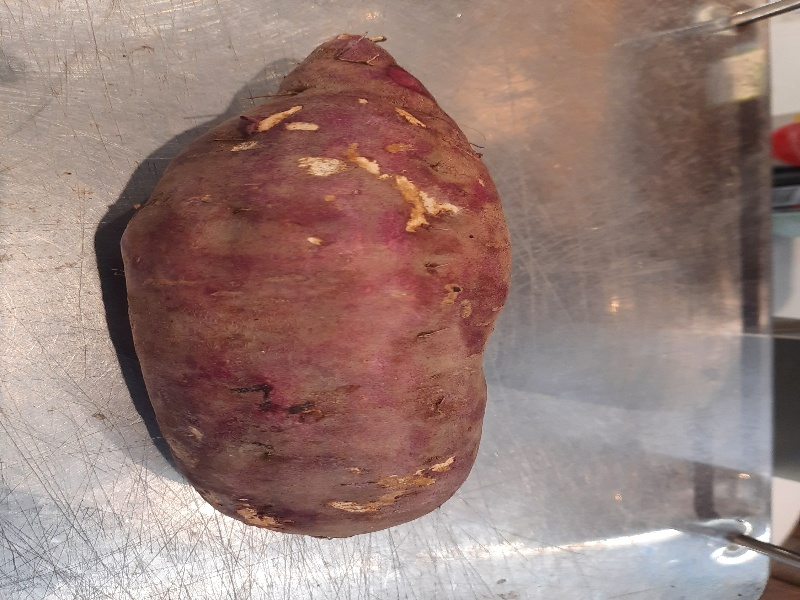vege: (112, 28, 526, 545)
